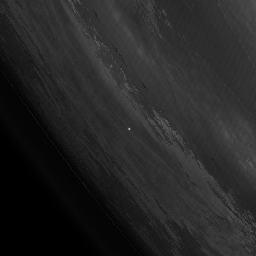Target: (127, 127, 131, 131)
